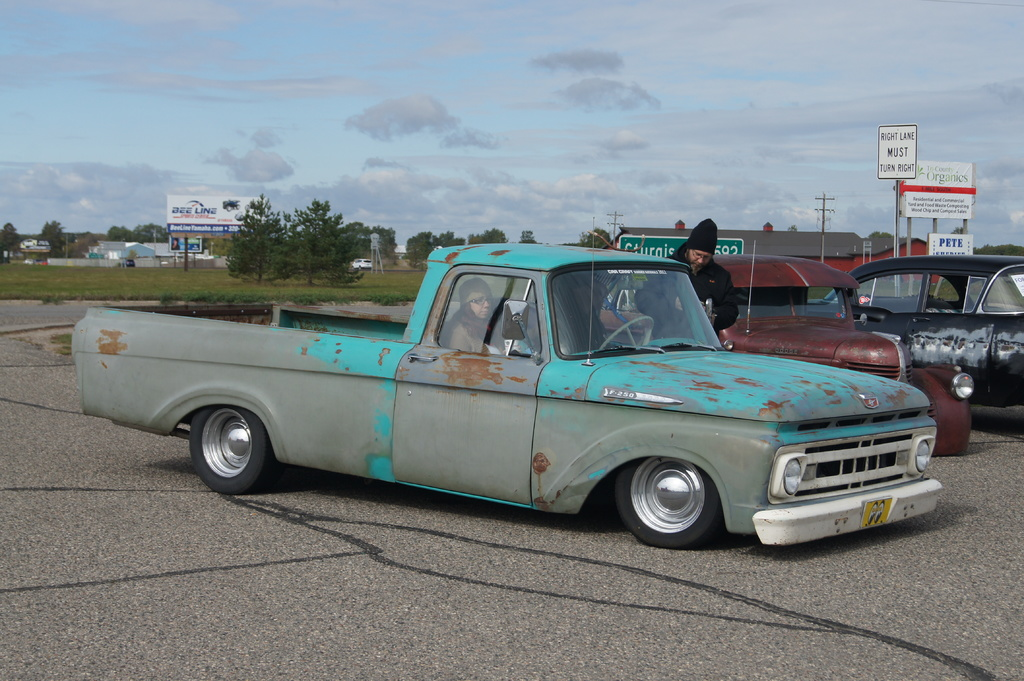Car: (72, 240, 966, 545), (599, 252, 969, 442), (852, 248, 1023, 419), (352, 256, 368, 266)
